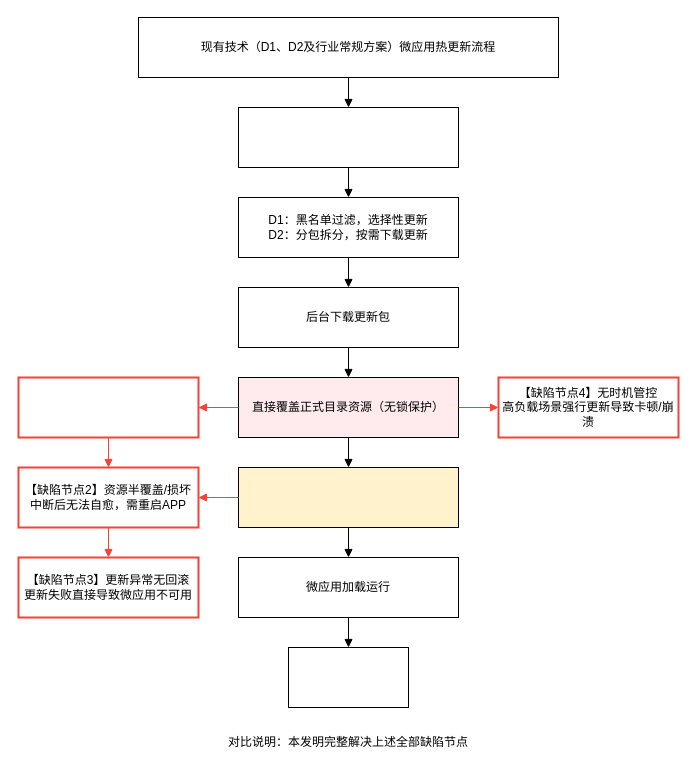
Image size: 696x775. Some labels were removed from this diagram. The shapes that lost their labels are listed below. From the top down, each one's centre as x and y in pixels, then its label:
(x=348, y=137): APP启动，检测新版本
(x=108, y=407): 【缺陷节点1】并发读写冲突 运行与更新同时操作同一资源
(x=348, y=497): 重启APP/微应用生效更新
(x=348, y=677): 流程结束
